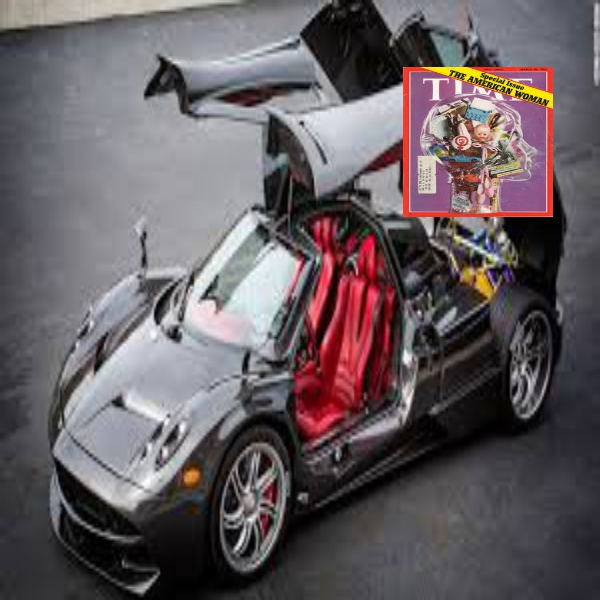time_cover: (393, 55, 562, 225)
